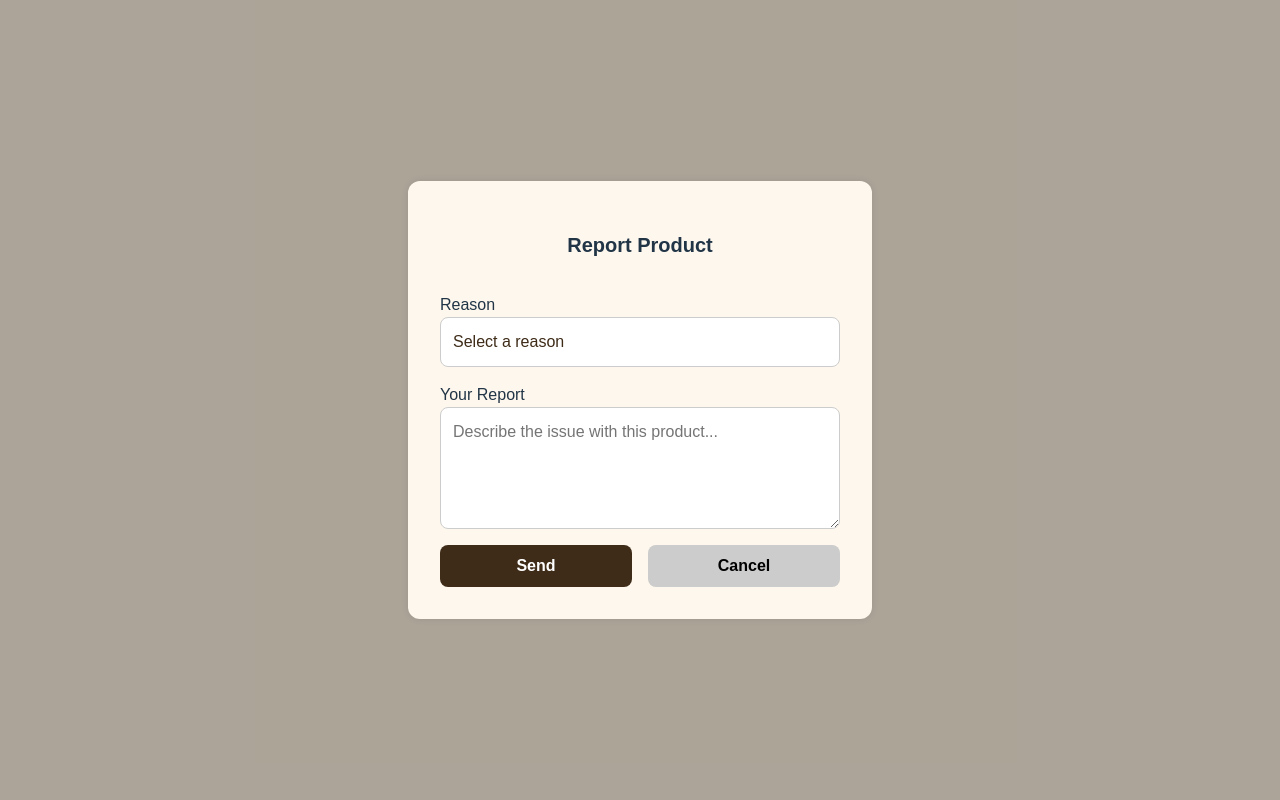
Test case: ReportProduct Modal › submits report successfully and shows success message
Select "Inappropriate content" in the dropdown labelled "Reason". click: (640, 342)
box: [440,317,840,367]
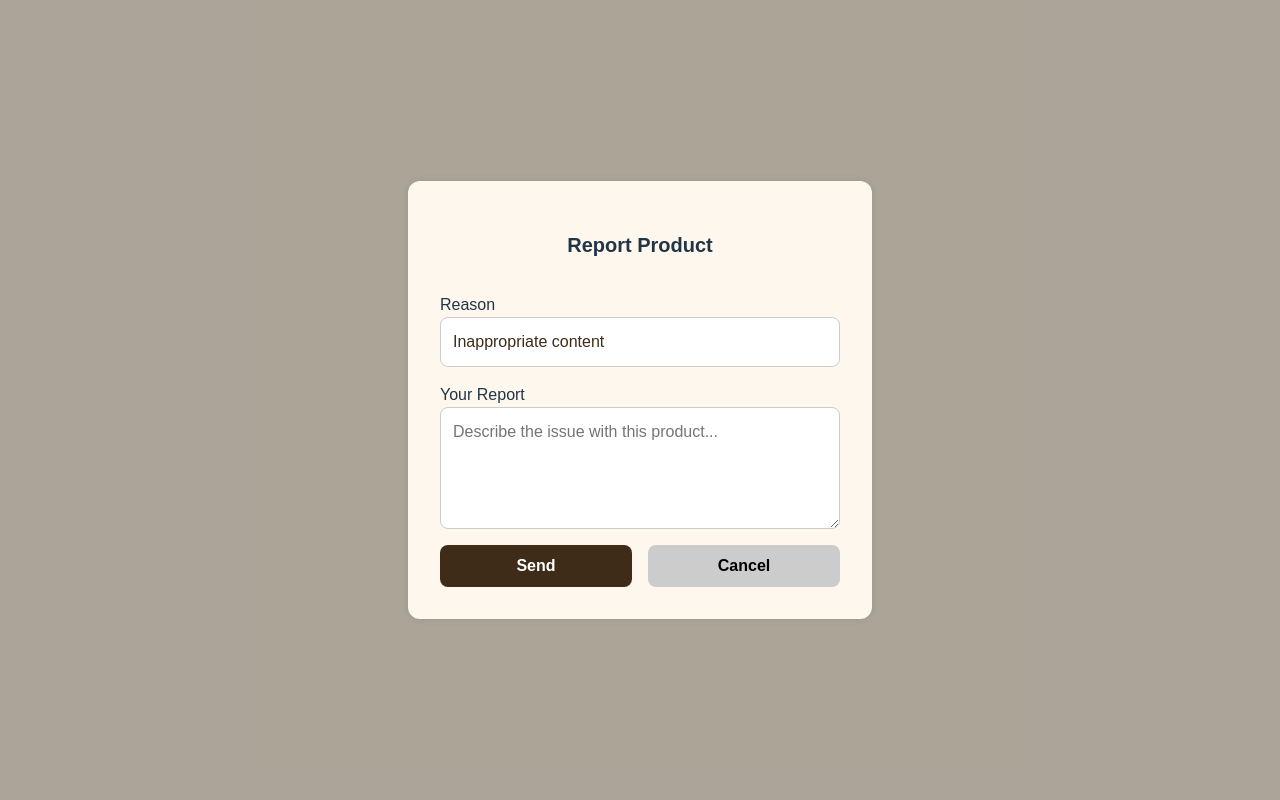
Type "This product is fake." into the text box labelled "Your Report". click: (640, 468)
box: [440,407,840,529]
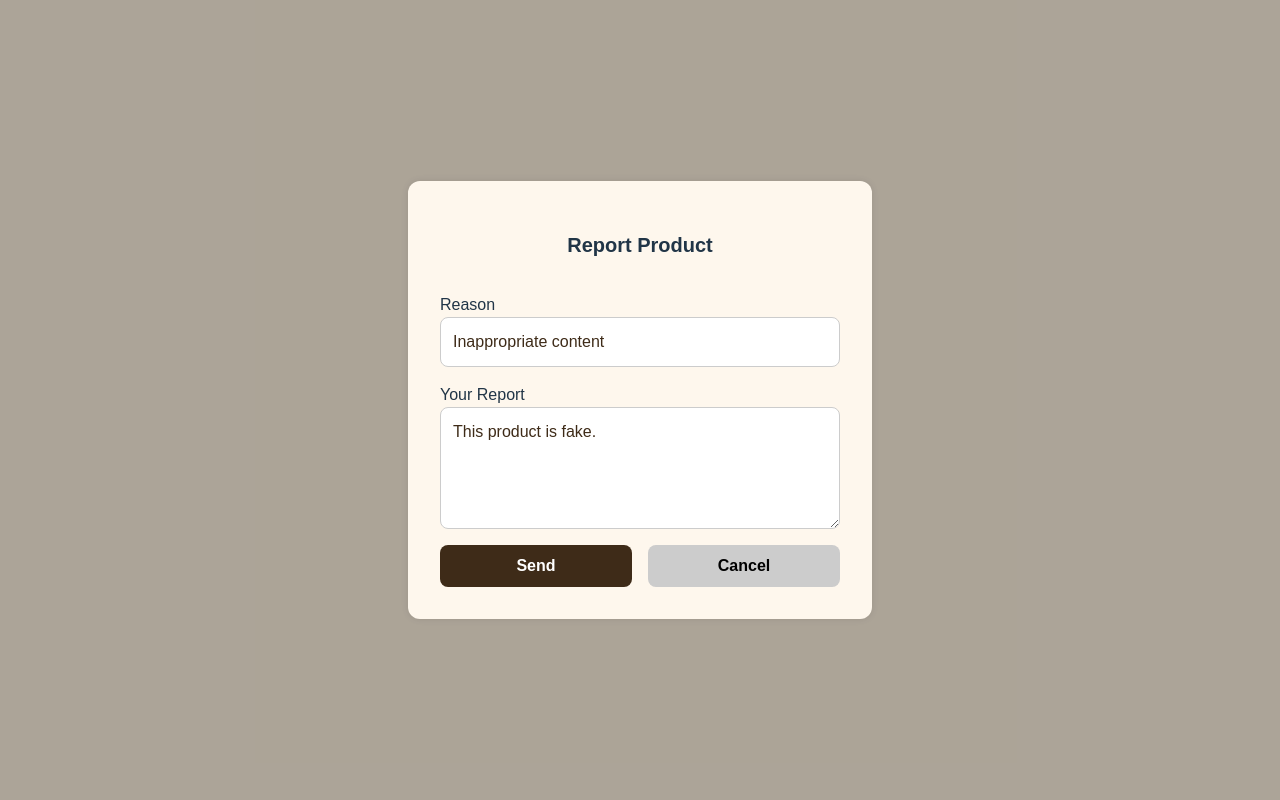
Click the button "Send". click: (536, 566)
box: [440,545,632,587]
Wait 2000 ms
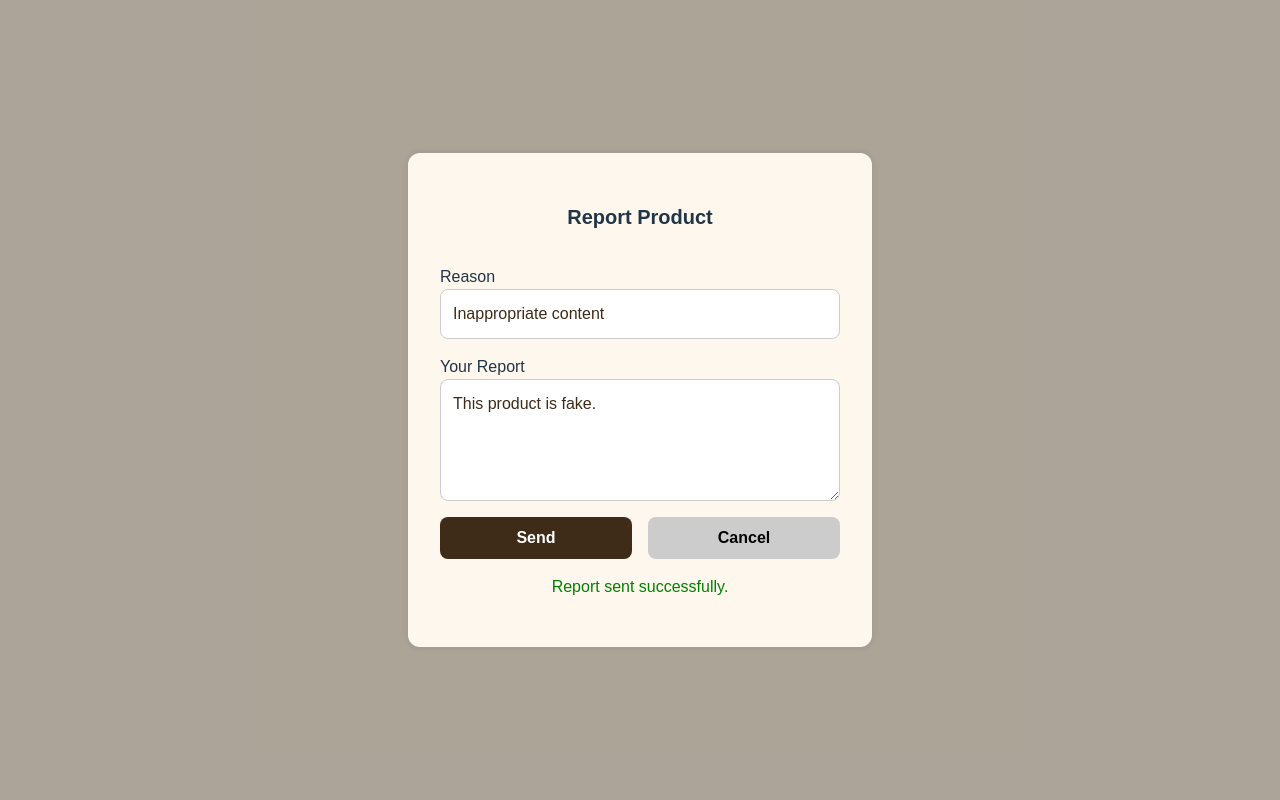
Now the text "Report sent successfully." is shown, box [552,578,728,595]
